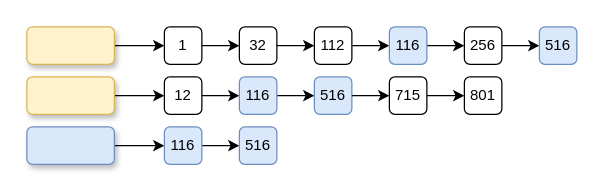
This 599x195 diagram has some shape labels left out. The centre of each missing label's shape, as x and y in pixels:
"cat" goes at (71,47).
"cat & dog" goes at (71,147).
"dog" goes at (71,97).
